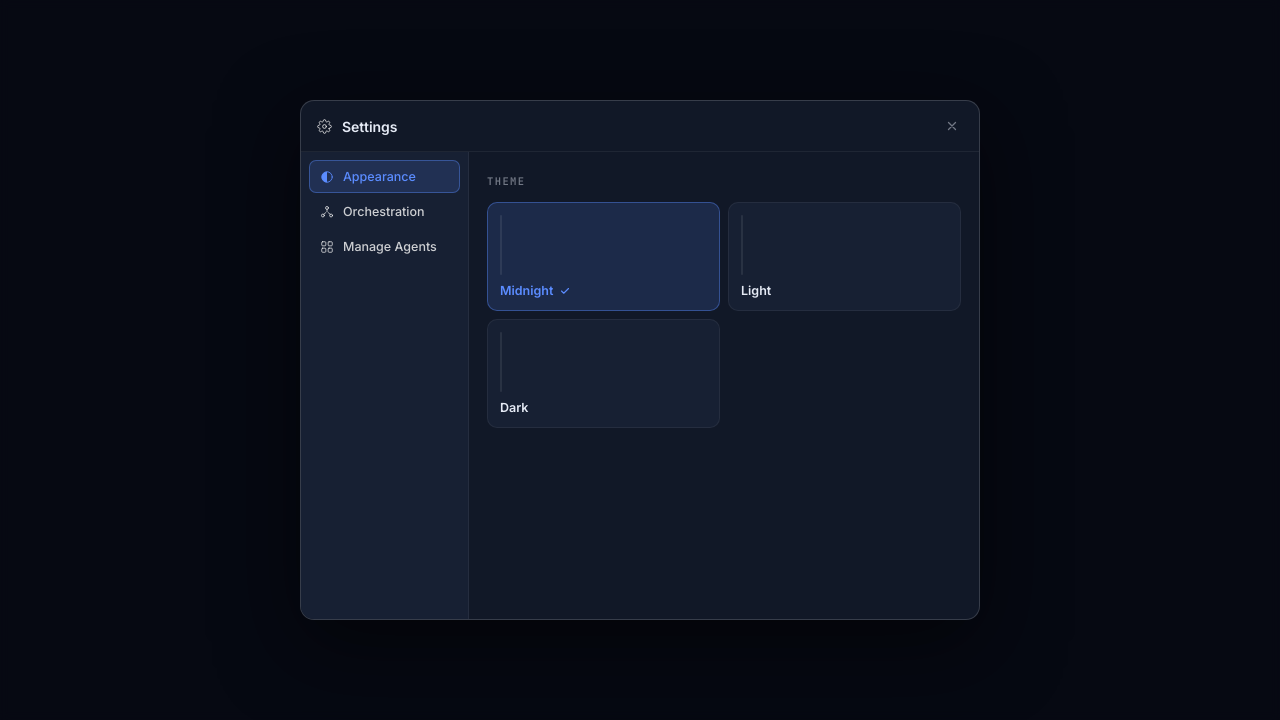
Test: SettingsModal model catalog › reaches the model catalog through Manage Agents and shows where it came from
What coordinates should you click on to do the following:
click the button "Manage Agents"
I would click on:
 (384, 246)
Its box is [309, 230, 460, 263].
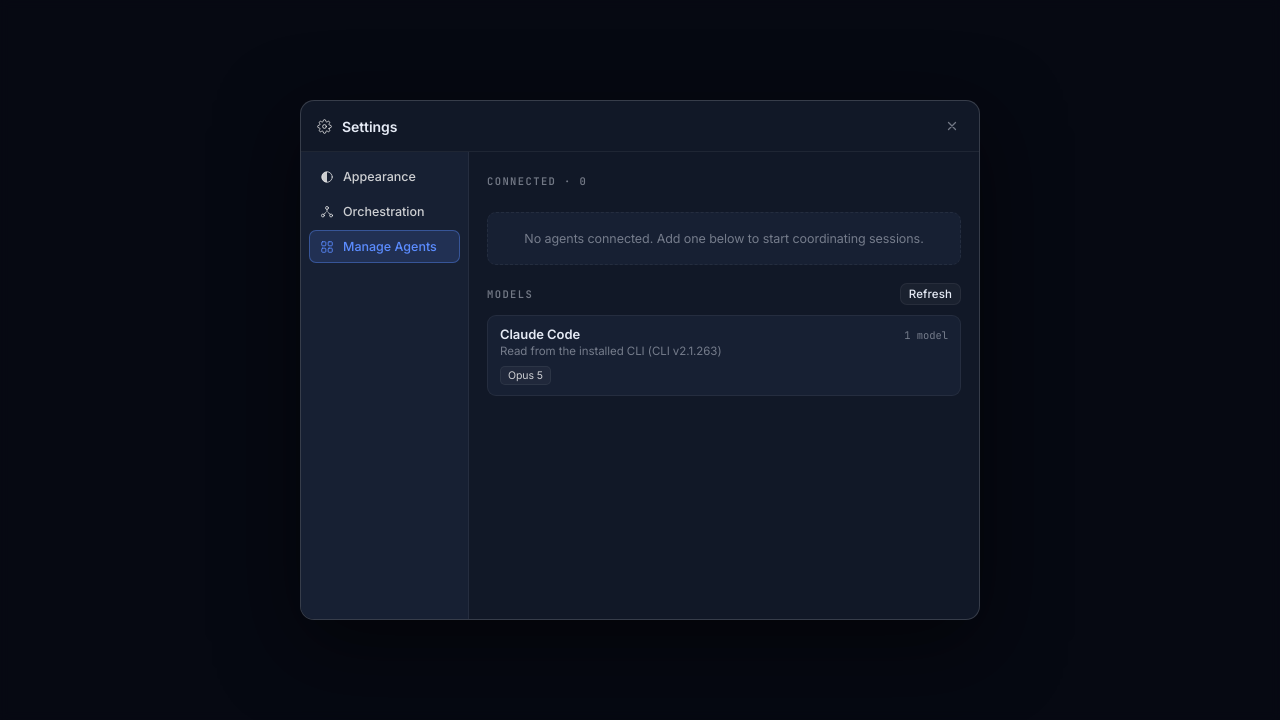
Expected: the list item "Opus 5" is shown, [500, 366, 551, 385]
Expected: the text "Read from the installed CLI (CLI v2.1.263)" is shown, [500, 344, 722, 358]
